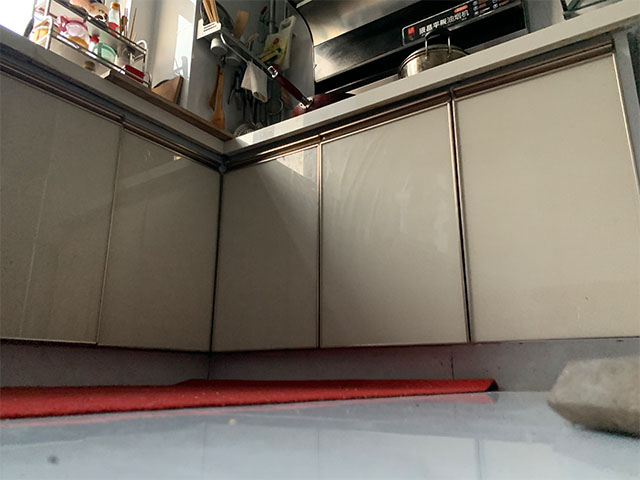cabinet: (222, 49, 640, 393), (2, 19, 221, 389)
carpet: (1, 376, 499, 422)
